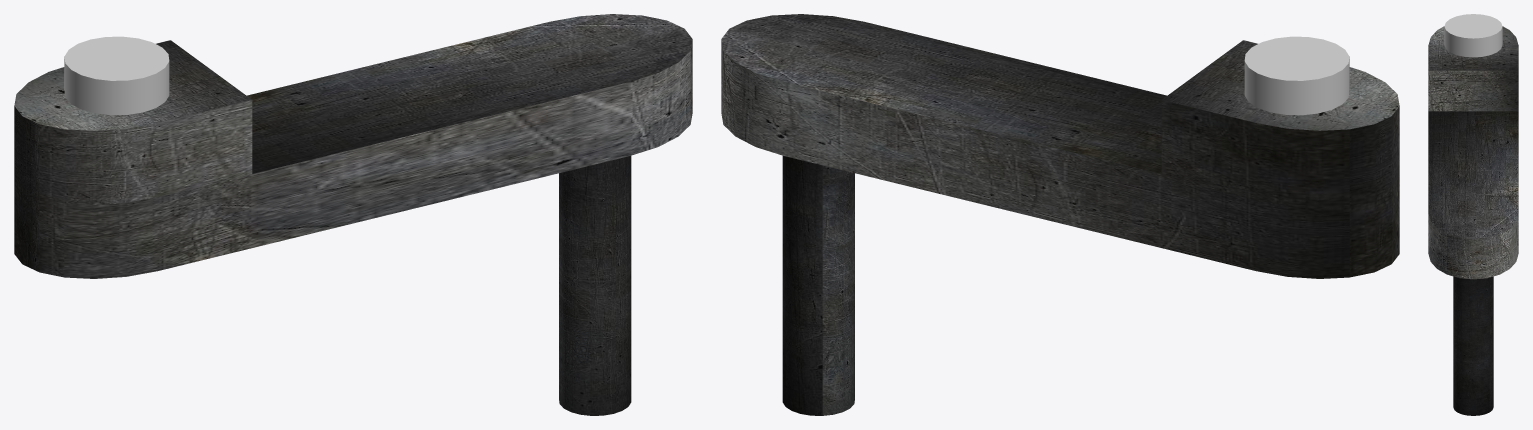
File: CrankHandle.fbx
3 renders of one model, left to right at view 1: azimuth 30°, elevation 25°; view 2: azimuth 150°, elevation 25°; view 3: azimuth 270°, elevation 25°, orthographic. The views are drawn at different scales.
Parts seen in each view (by area): view 1: polySurface10; view 2: polySurface10; view 3: polySurface10.
Boxes of the visible parts, left/top/right/bottom form: polySurface10: left=14, top=14, right=692, bottom=415; polySurface10: left=721, top=14, right=1399, bottom=415; polySurface10: left=1428, top=14, right=1518, bottom=415.
Bounding box in the file's own units: 6.93 × 4.58 × 1.48.
